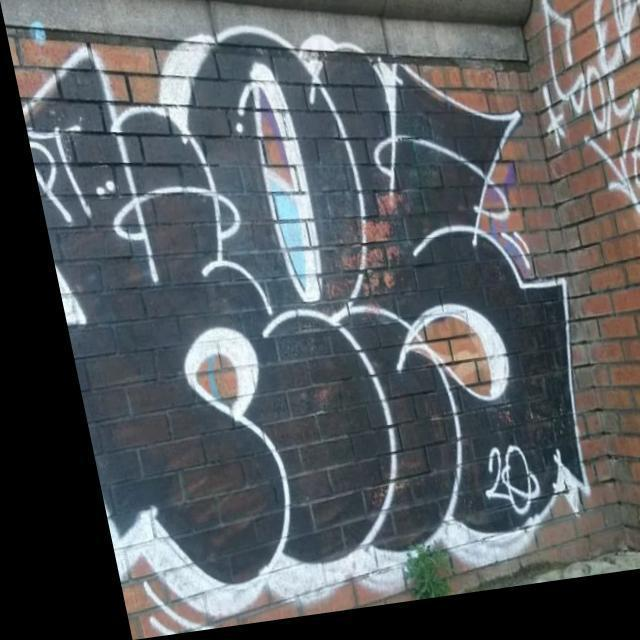-: (7, 0, 606, 633), (529, 0, 640, 359), (20, 115, 110, 234), (453, 447, 521, 537)
